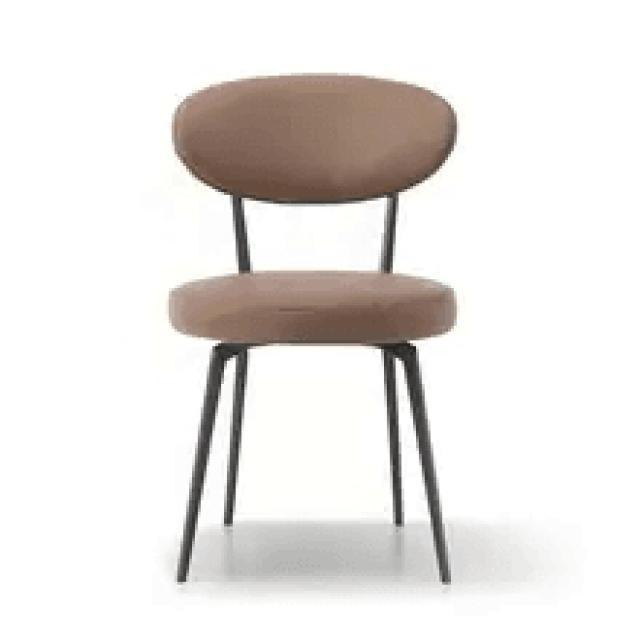chair: (167, 72, 459, 586)
